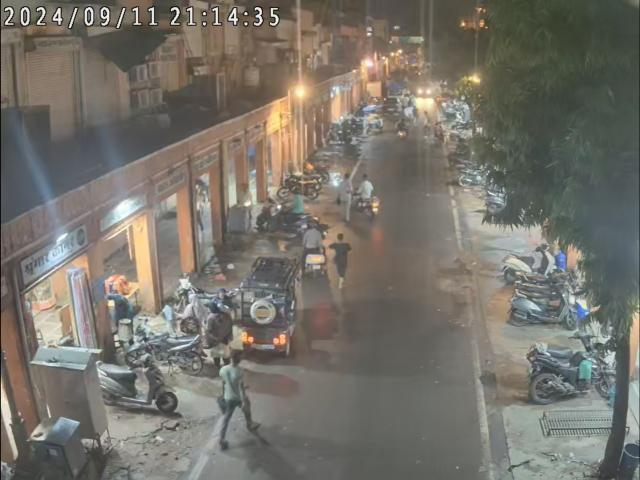auto: (237, 252, 301, 361)
motorbike: (521, 346, 622, 404), (122, 319, 212, 380)
scooty: (92, 353, 180, 417), (505, 286, 580, 332), (497, 244, 567, 287)
scooty-rider: (337, 172, 382, 224), (300, 216, 328, 282)
